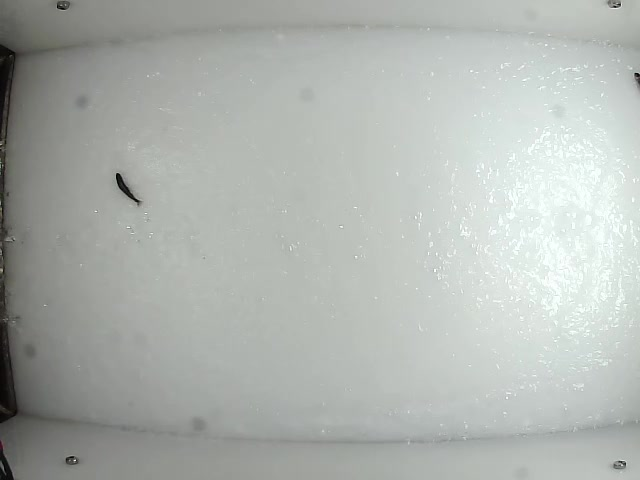fish: (112, 171, 144, 209)
